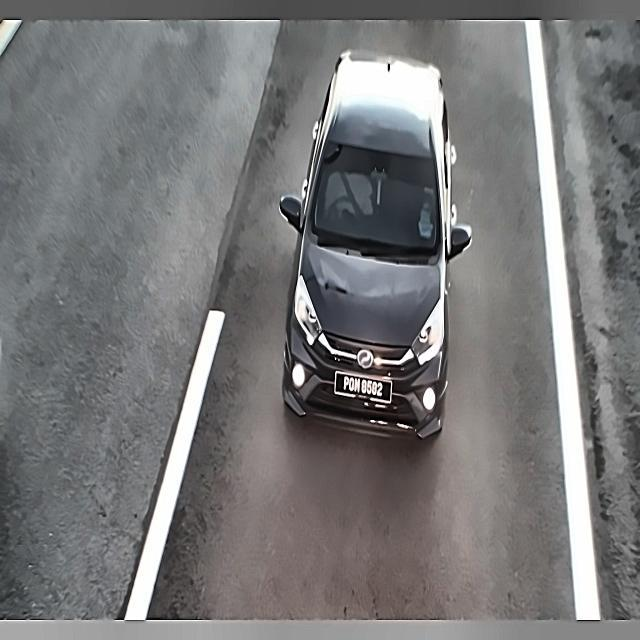car: (334, 363, 393, 412)
